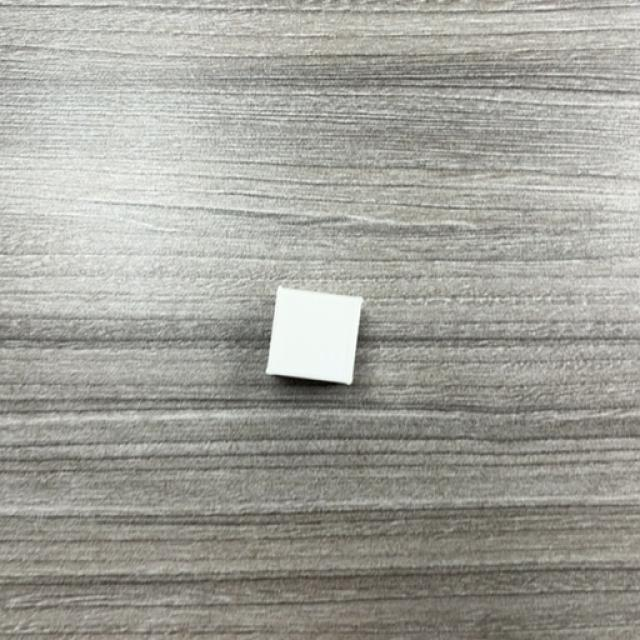Blanco: (266, 288, 364, 386)
